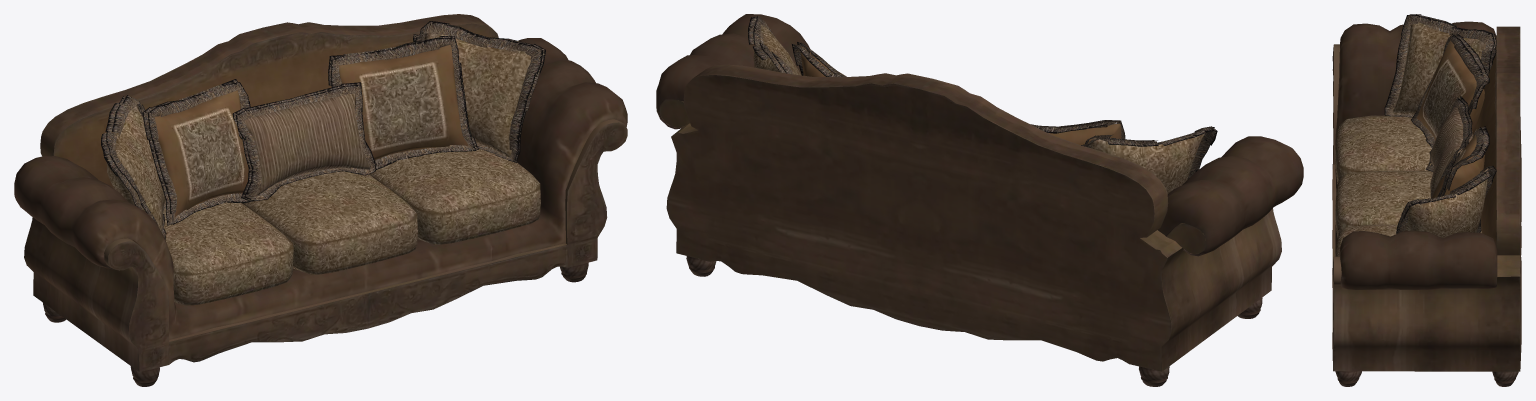
The model's file is Royal Leather Sofa1.gltf.
3 renders of one model, left to right at view 1: azimuth 30°, elevation 25°; view 2: azimuth 150°, elevation 25°; view 3: azimuth 270°, elevation 25°, orthographic. The views are drawn at different scales.
Parts seen in each view (by area): view 1: sofa_03; view 2: sofa_03; view 3: sofa_03.
Boxes of the visible parts, x1,y1,x2,y2 form: sofa_03: [14, 14, 627, 386]; sofa_03: [656, 14, 1303, 386]; sofa_03: [1332, 14, 1521, 386].
Size of the model in its own units: 2.73 by 1.12 by 0.9251.
Materials: 2 (2 with a texture image).
